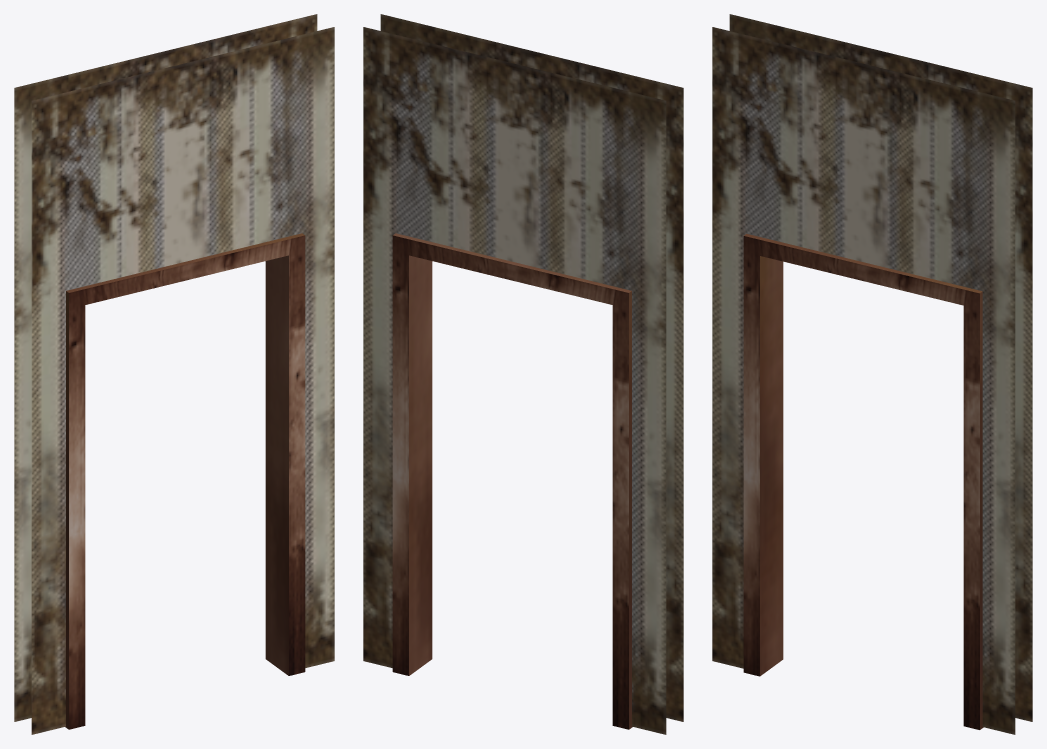
Rendered from wall_white_doorwar_1.obj.
3 views of the same model, side by side, from view 1: azimuth 30°, elevation 25°; view 2: azimuth 150°, elevation 25°; view 3: azimuth 330°, elevation 25° (orthographic).
Visible parts, largest first — view 1: Doorframe.001; view 2: Doorframe.001; view 3: Doorframe.001.
Part boxes in pixels (box(x1,y1,x2,y2)): Doorframe.001: box(14, 14, 334, 734); Doorframe.001: box(363, 14, 683, 734); Doorframe.001: box(712, 14, 1032, 734).
Size of the model in its own units: 1.5 by 3 by 0.2.
2 materials, 2 textured.
